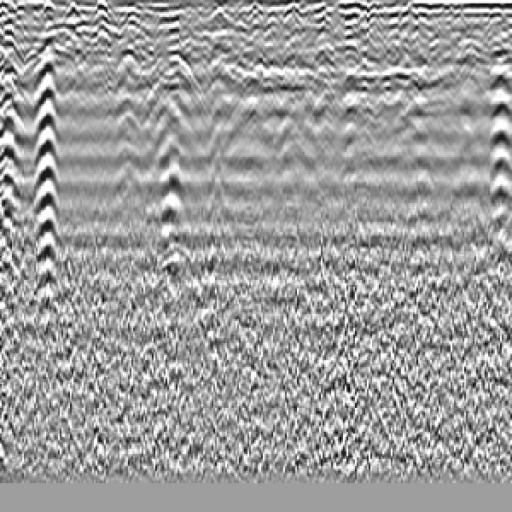metalic: (120, 44, 215, 217)
